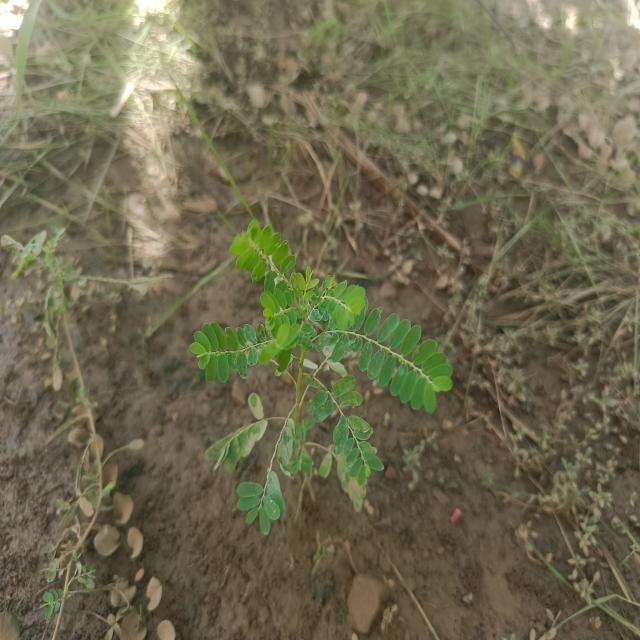weed: (193, 216, 457, 536)
